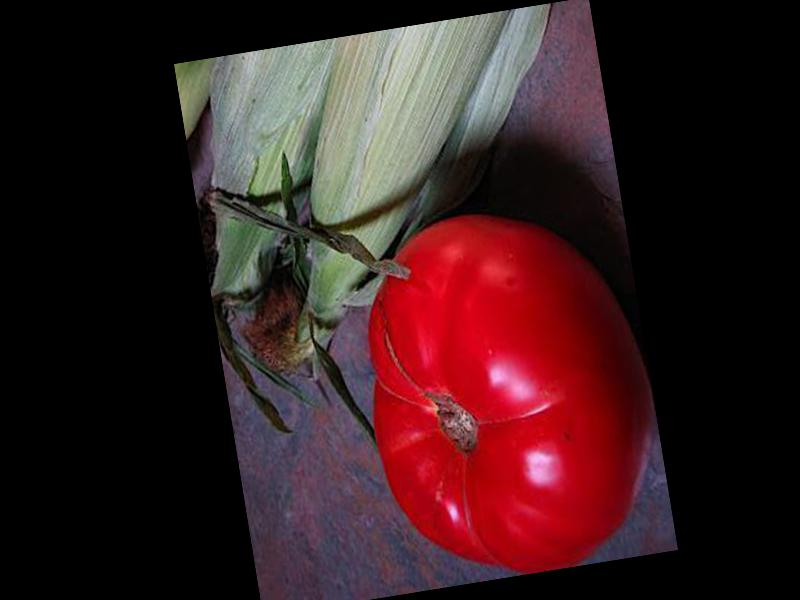Tomato: (343, 192, 673, 591)
